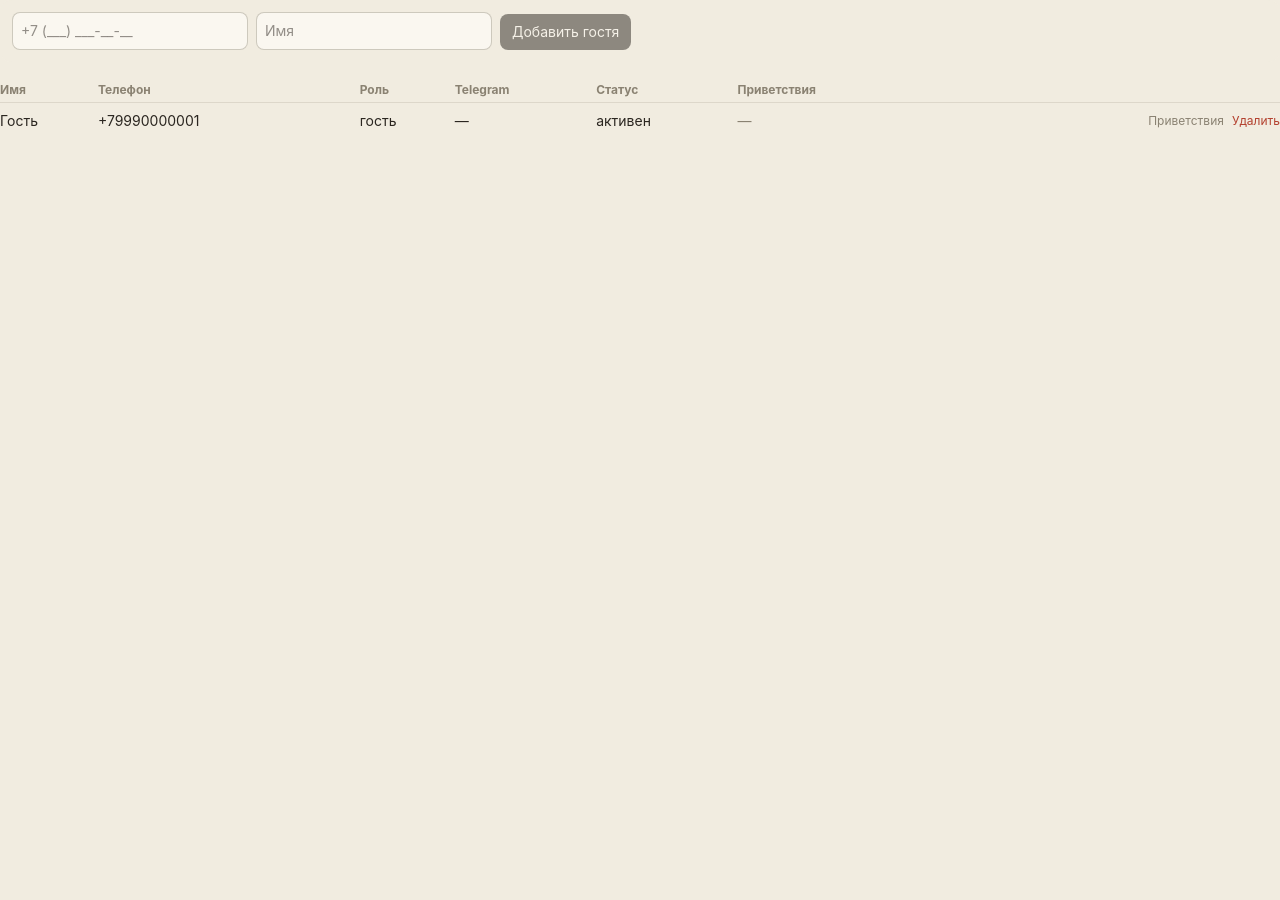
it: колонка приветствий обновляется после сохранения без перезагрузки
Step 1. Click the button "Приветствия" → (1186,121), box [1148, 113, 1224, 129]
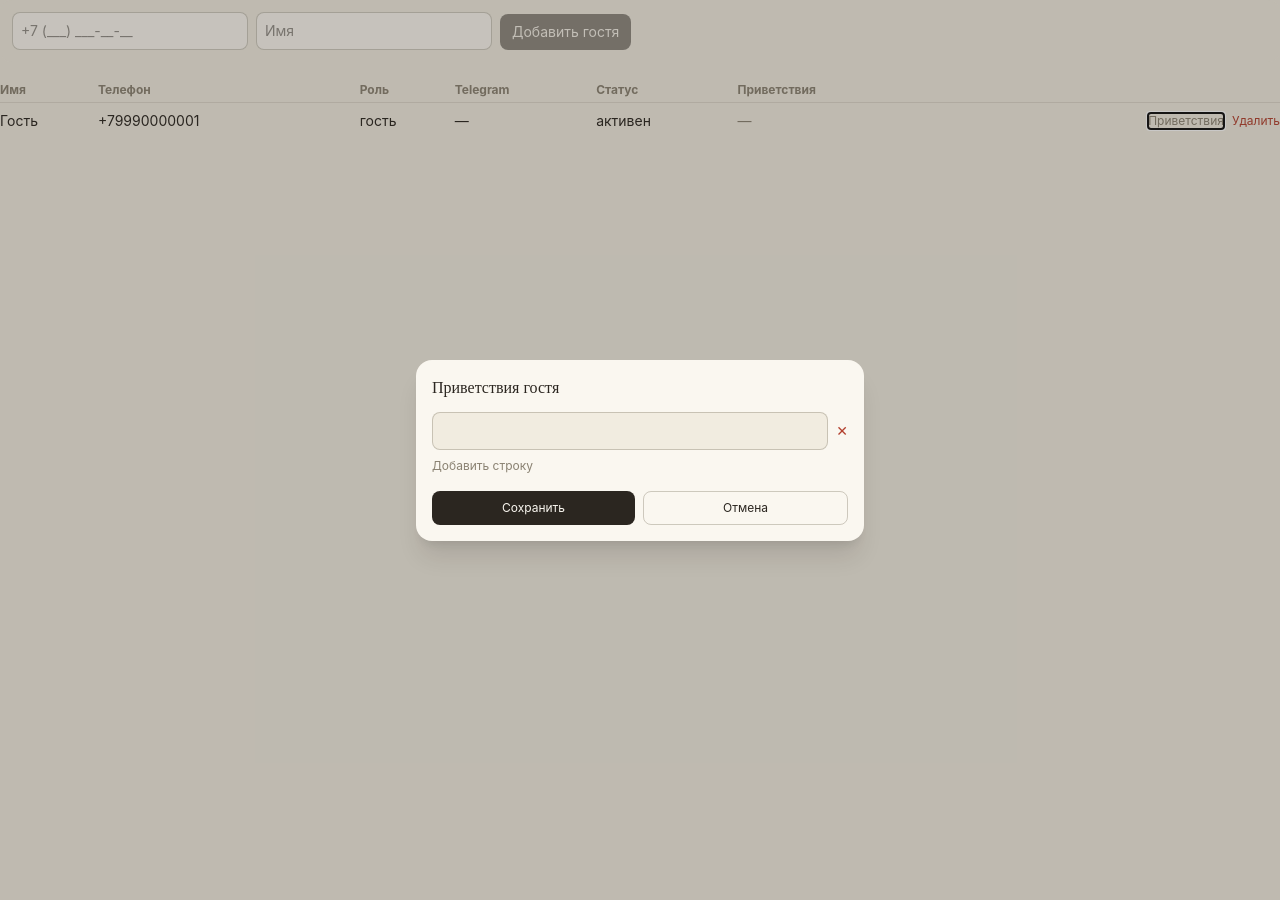
Step 2. Type "Добро пожаловать!" into the field named "приветствие 1" → (630,430), box [432, 412, 828, 450]
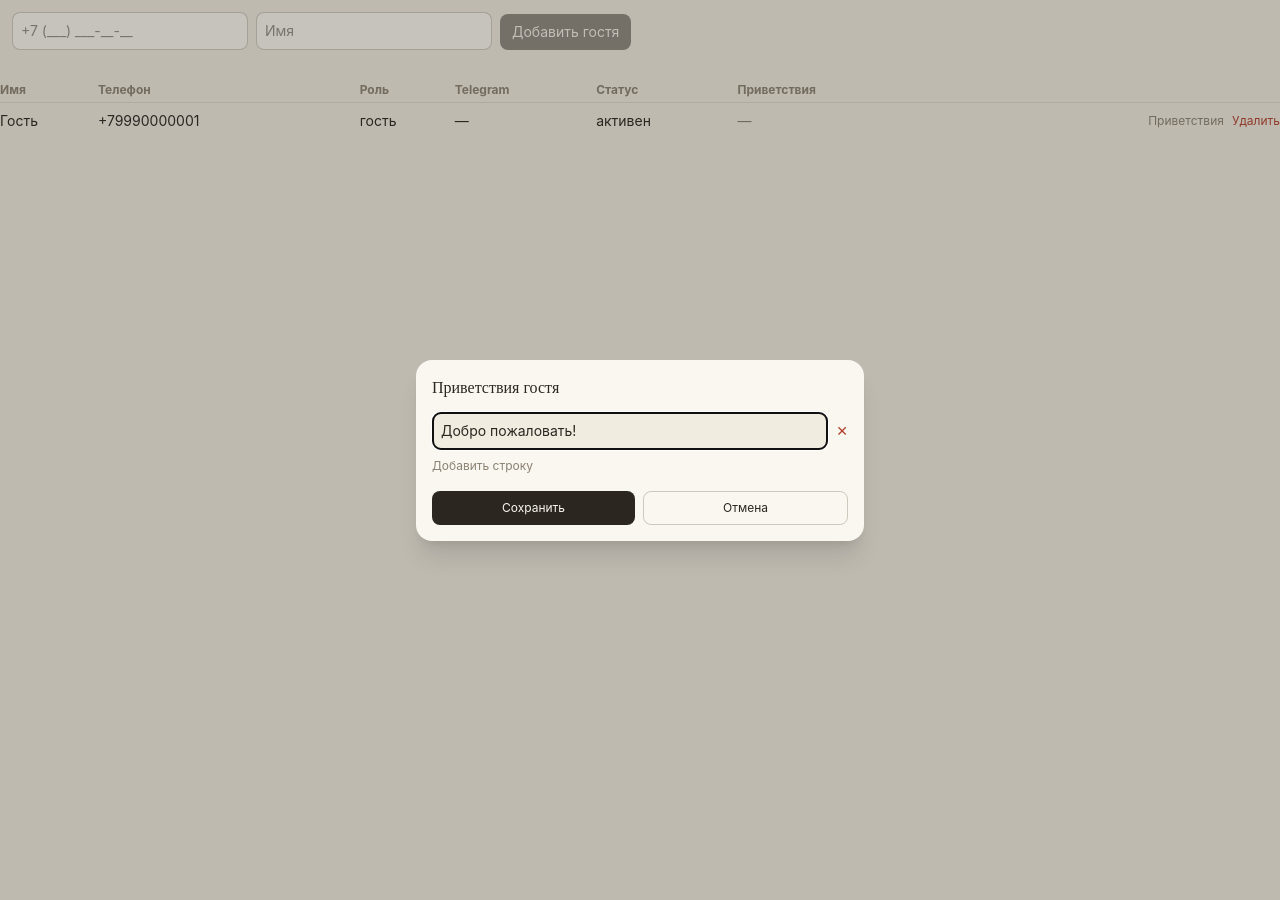
Step 3. Click the button "Сохранить" → (534,508), box [432, 490, 635, 524]
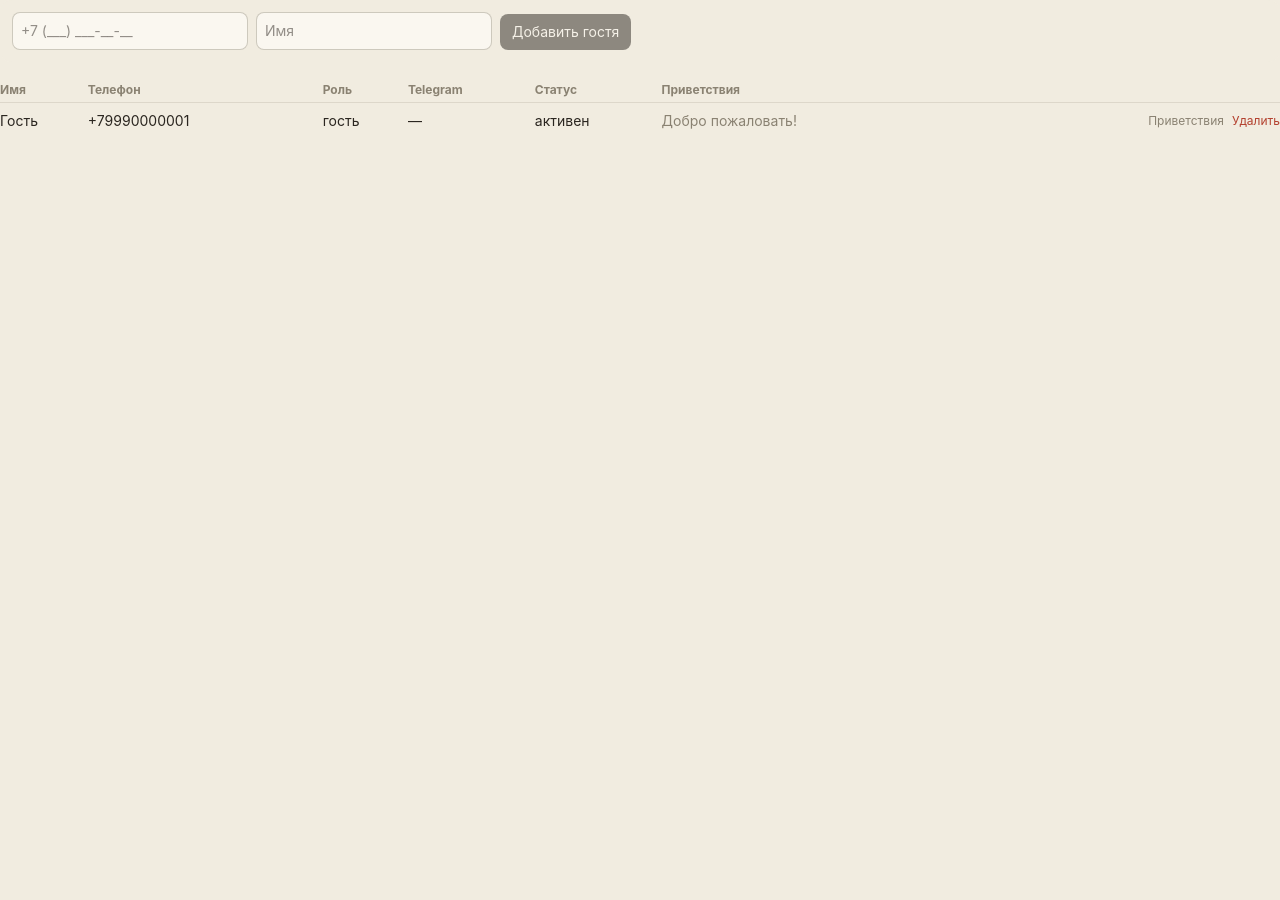
expect the cell with test id "greetings-cell-1" reads "Добро пожаловать!": met, box [662, 112, 797, 129]
